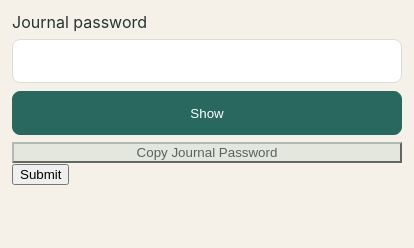
Test: copy failure is accessible and does not expose the password in storage, URL, logs, or error feedback
Type "never-leak-this-Journal-password-10!" into the password field labelled "Journal password" at (207, 61), box [12, 39, 402, 83]
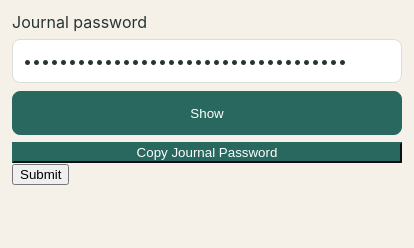
Click the button "Copy Journal Password" at (207, 152), box [12, 142, 402, 163]
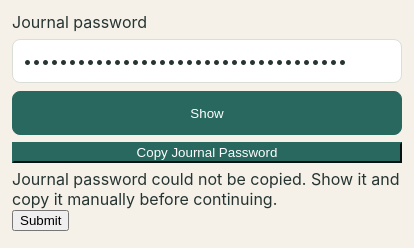
Expected: the message does not show "never-leak-this-Journal-password-10!", [12, 169, 402, 209]
Expected: the message shows "could not be copied", [12, 169, 399, 209]
